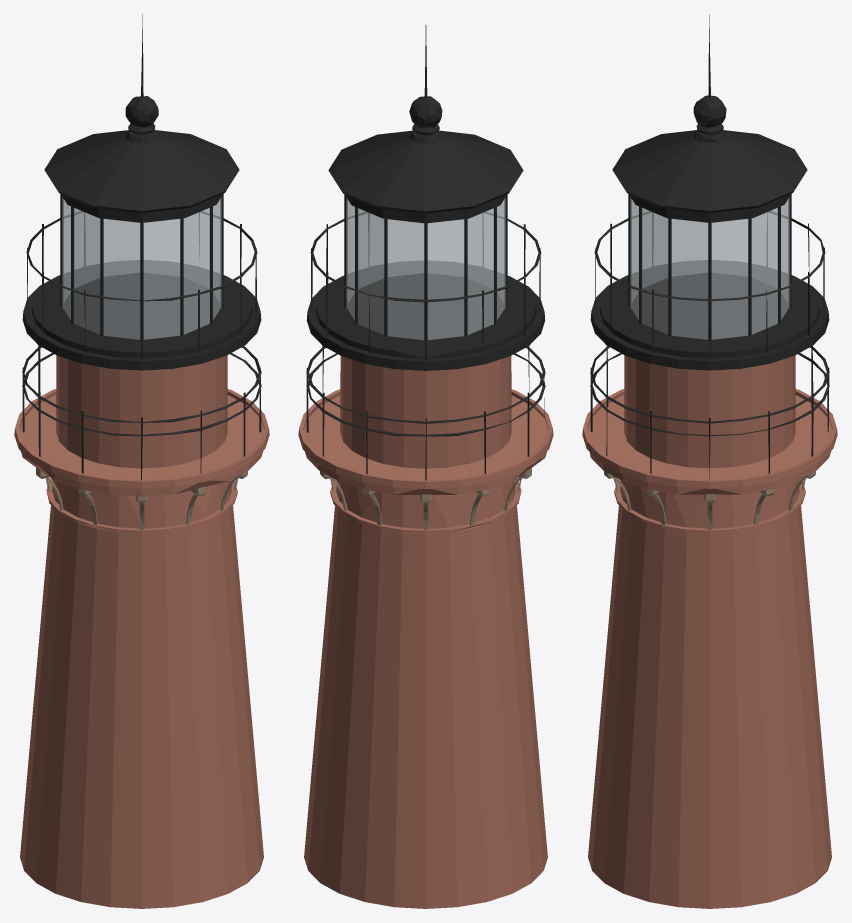
Rendered from lighthouse.glb.
3 views of the same model, side by side, from view 1: azimuth 30°, elevation 25°; view 2: azimuth 150°, elevation 25°; view 3: azimuth 270°, elevation 25° (orthographic).
Parts seen in each view (by area): view 1: main_body, bottom_walk_bar, glass, glass_frame, support; view 2: main_body, bottom_walk_bar, glass, glass_frame, support; view 3: main_body, bottom_walk_bar, glass, glass_frame, support.
Part boxes in pixels (bbox=[...]): main_body: bbox=[14, 355, 269, 908]; bottom_walk_bar: bbox=[22, 14, 261, 480]; glass: bbox=[62, 197, 221, 339]; glass_frame: bbox=[60, 194, 223, 340]; support: bbox=[36, 467, 247, 529]; main_body: bbox=[298, 356, 553, 908]; bottom_walk_bar: bbox=[306, 24, 545, 480]; glass: bbox=[346, 198, 505, 340]; glass_frame: bbox=[344, 194, 507, 340]; support: bbox=[320, 467, 531, 530]; main_body: bbox=[582, 355, 837, 908]; bottom_walk_bar: bbox=[590, 14, 829, 479]; glass: bbox=[630, 197, 789, 339]; glass_frame: bbox=[628, 194, 791, 340]; support: bbox=[604, 471, 815, 529].
Bounding box in the file's own units: 109 × 397 × 109.
